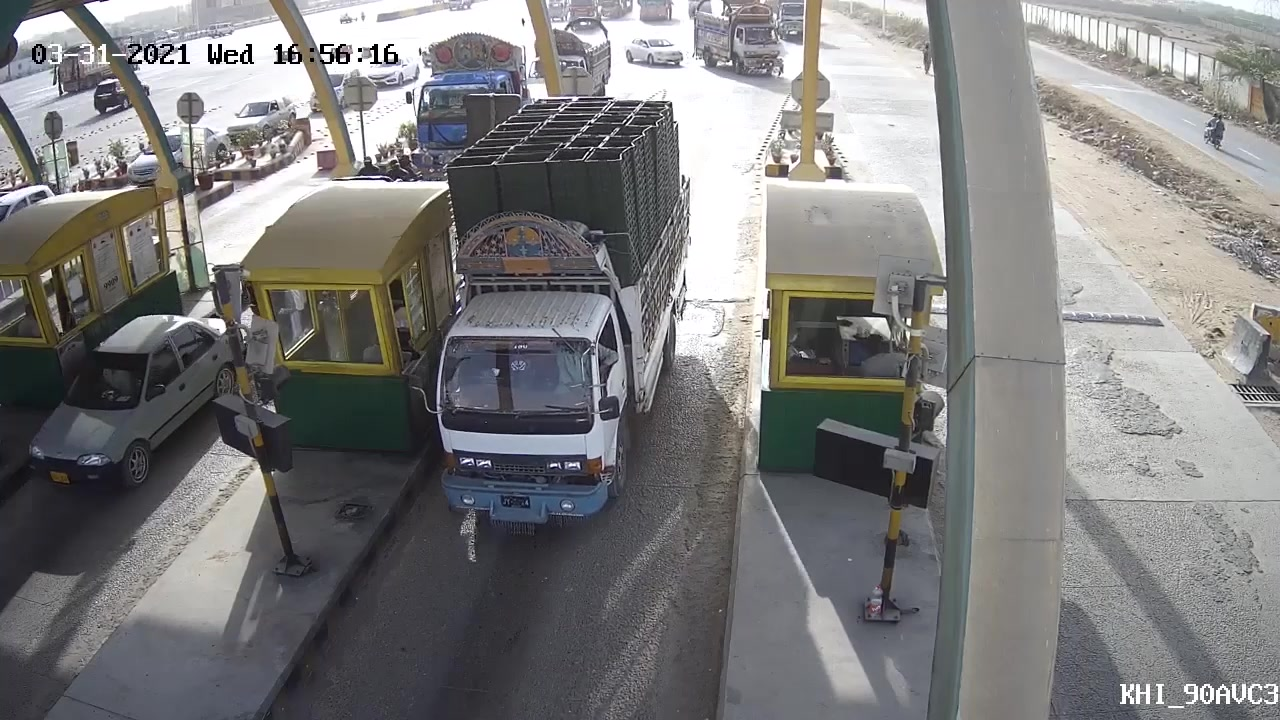F5: (417, 94, 707, 546)
